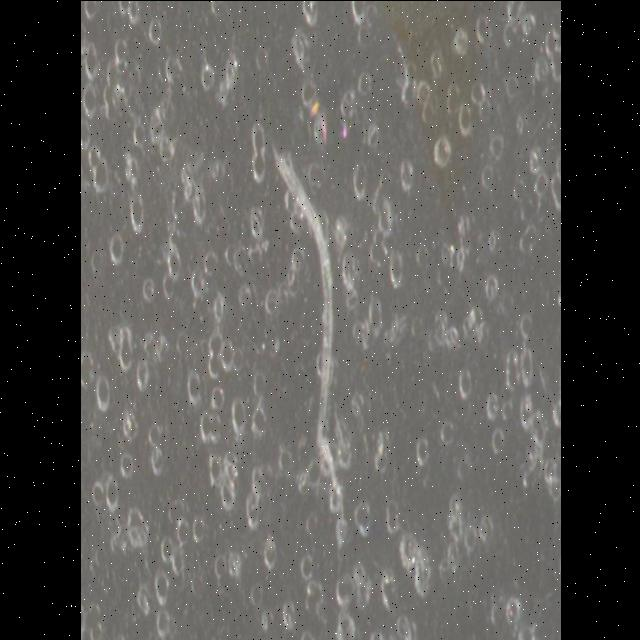Fibre: (258, 115, 359, 567)
